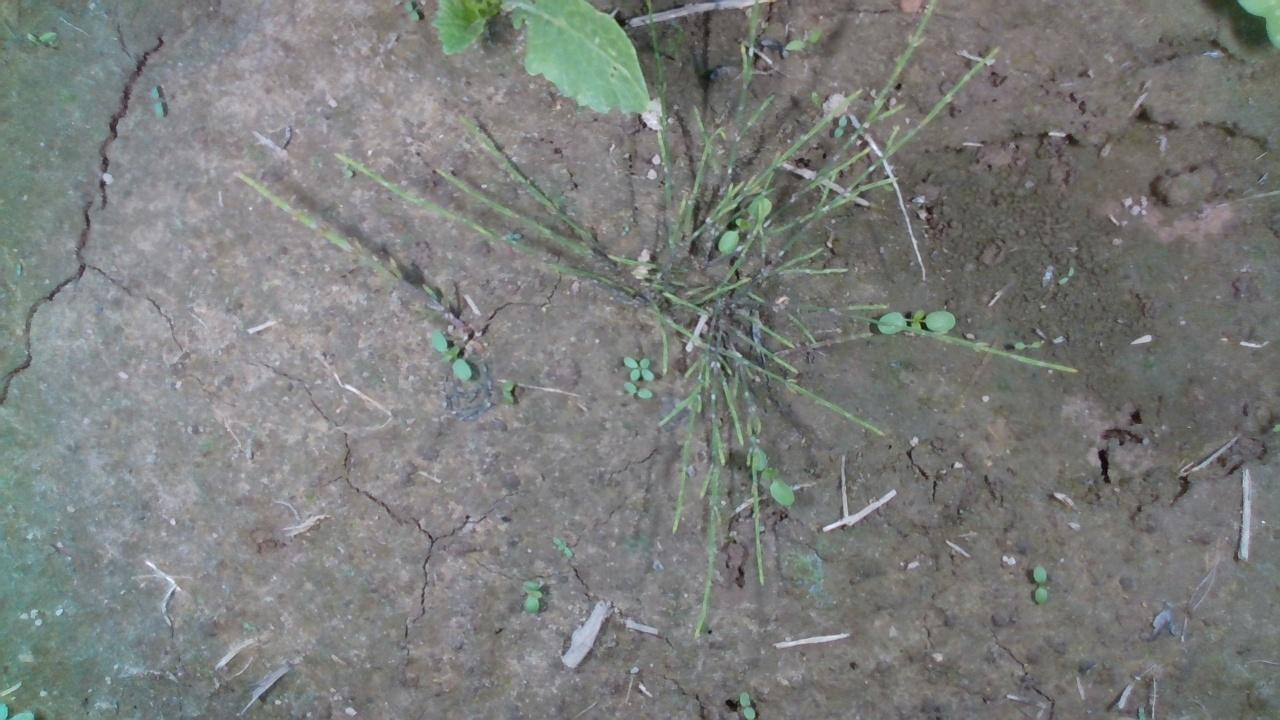weed: (429, 329, 471, 382), (621, 353, 654, 381), (519, 577, 542, 613), (1031, 561, 1048, 604), (619, 380, 652, 400), (549, 533, 573, 560), (147, 84, 164, 120), (499, 376, 516, 405), (737, 690, 754, 718), (1013, 340, 1043, 349)
